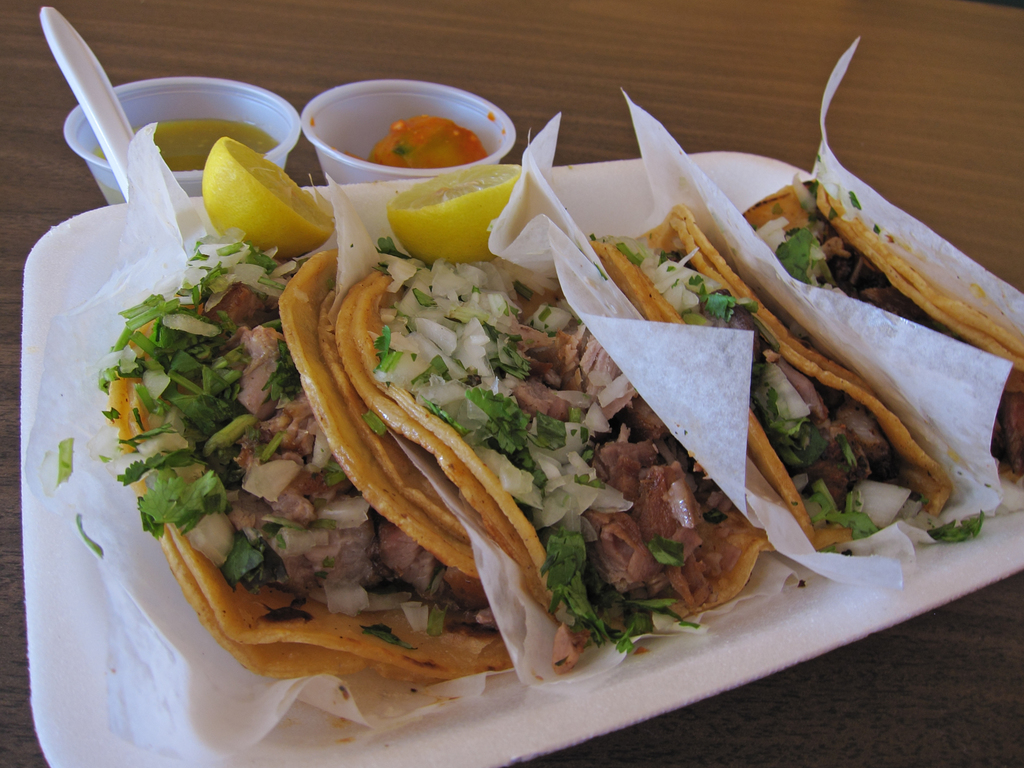taco: (348, 232, 756, 660), (129, 253, 515, 696), (585, 204, 952, 552), (739, 164, 1022, 502)
